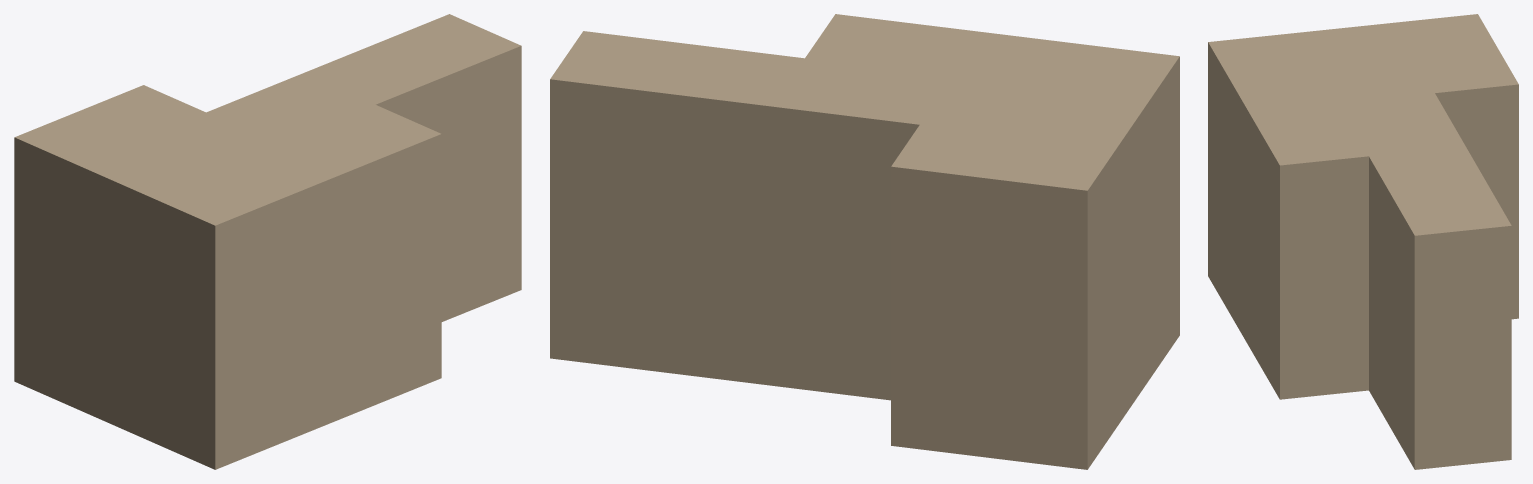
The model's file is bld_99867706.dae.
3 views of the same model, side by side, from view 1: azimuth 30°, elevation 25°; view 2: azimuth 150°, elevation 25°; view 3: azimuth 270°, elevation 25° (orthographic). The views are drawn at different scales.
Visible parts, largest first — view 1: bld_99867706; view 2: bld_99867706; view 3: bld_99867706.
Part boxes in pixels (left/top/right/bottom): bld_99867706: left=14, top=14, right=521, bottom=469; bld_99867706: left=550, top=14, right=1179, bottom=469; bld_99867706: left=1208, top=14, right=1518, bottom=469.
Size of the model in its own units: 16.25 by 9.62 by 8.
